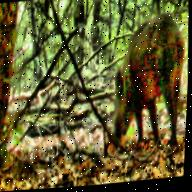boar: (103, 0, 191, 152)
